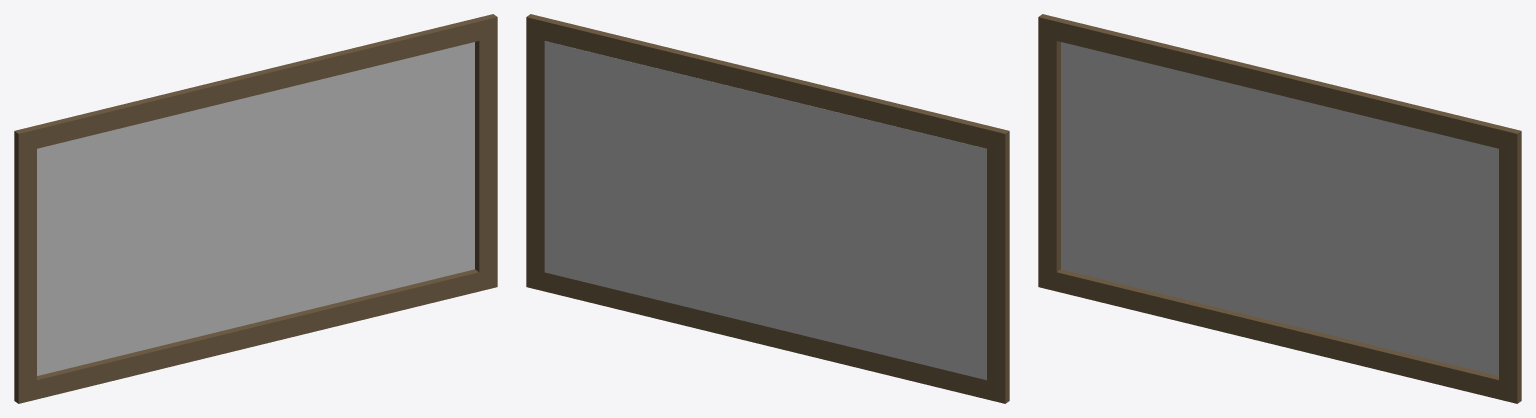
The model's file is frame_wide.glb.
The picture shows the model from 3 angles, left to right: view 1: azimuth 30°, elevation 25°; view 2: azimuth 150°, elevation 25°; view 3: azimuth 330°, elevation 25°; orthographic projection.
Parts seen in each view (by area): view 1: world; view 2: world; view 3: world.
Part boxes in pixels (left/top/right/bottom): world: left=14, top=14, right=497, bottom=403; world: left=526, top=14, right=1009, bottom=403; world: left=1038, top=14, right=1521, bottom=403.
Size of the model in its own units: 1.3 by 0.7 by 0.0205.
